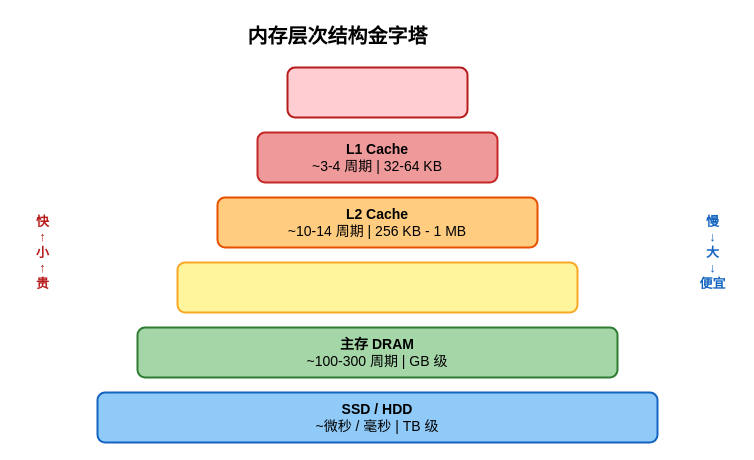
The diagram is 754 pixels wide and 460 high, and some of its shapes have lost their labels. Each missing label, with the centre of its shape:
"L3 Cache ~30-50 周期 | 数 MB - 数十 MB" goes at point 377,287.
"寄存器 ~1 周期 | ~数百字节" goes at point 377,92.
